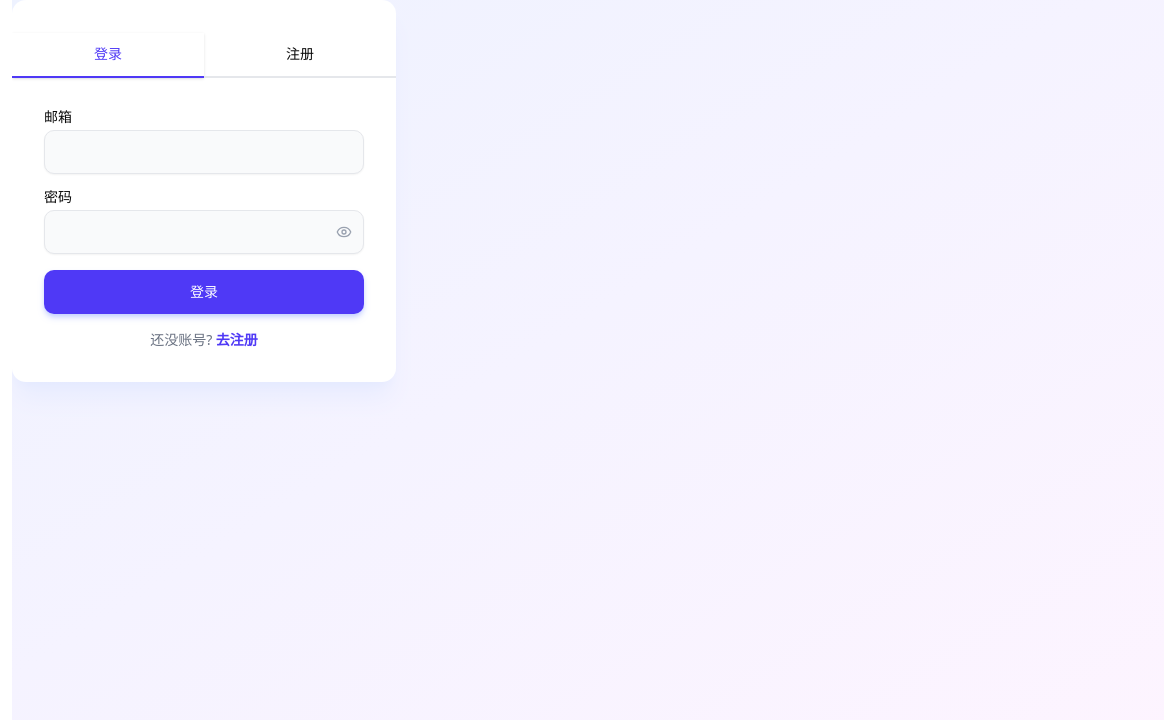
Test: AuthCard › switches to sign-up form when signup tab clicked
What coordinates should you click on to do the following:
click the tab "注册"
I would click on:
 (300, 55)
Its box is [204,32,396,78].
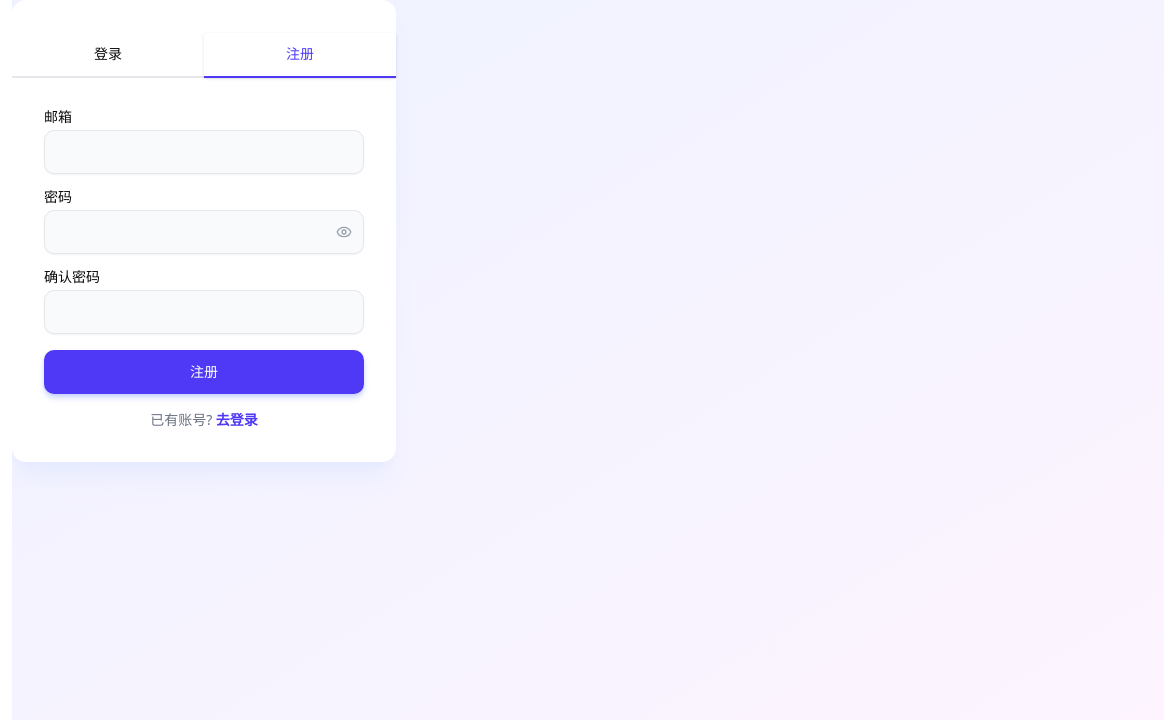
Result: the button "注册" is shown at [44,350,364,394]
